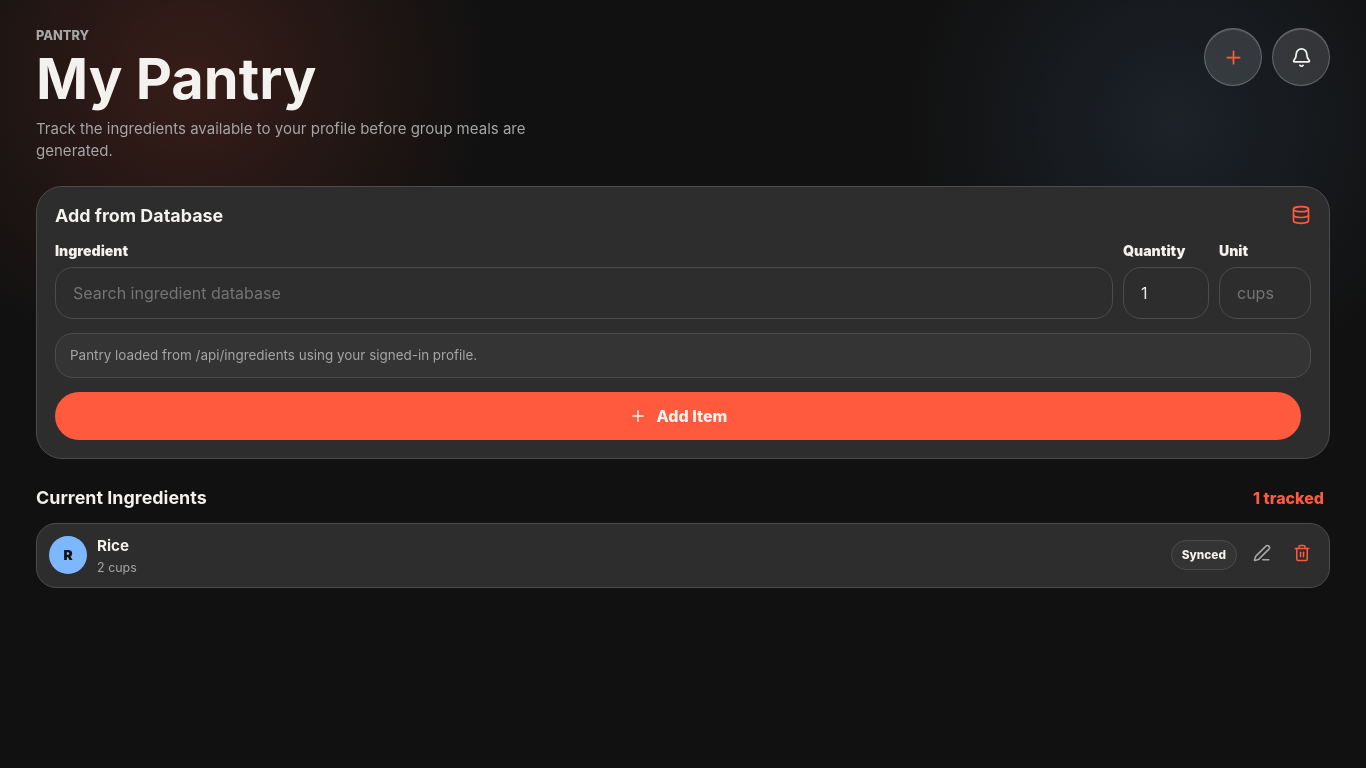
Test case: PantryPage controls › loads pantry items and adds a catalog ingredient
Expected: the heading "Rice" is shown, [97, 536, 129, 554]
Type "Tomato" into the field labelled "Ingredient" at {"x": 584, "y": 293}, box [55, 267, 1113, 319]
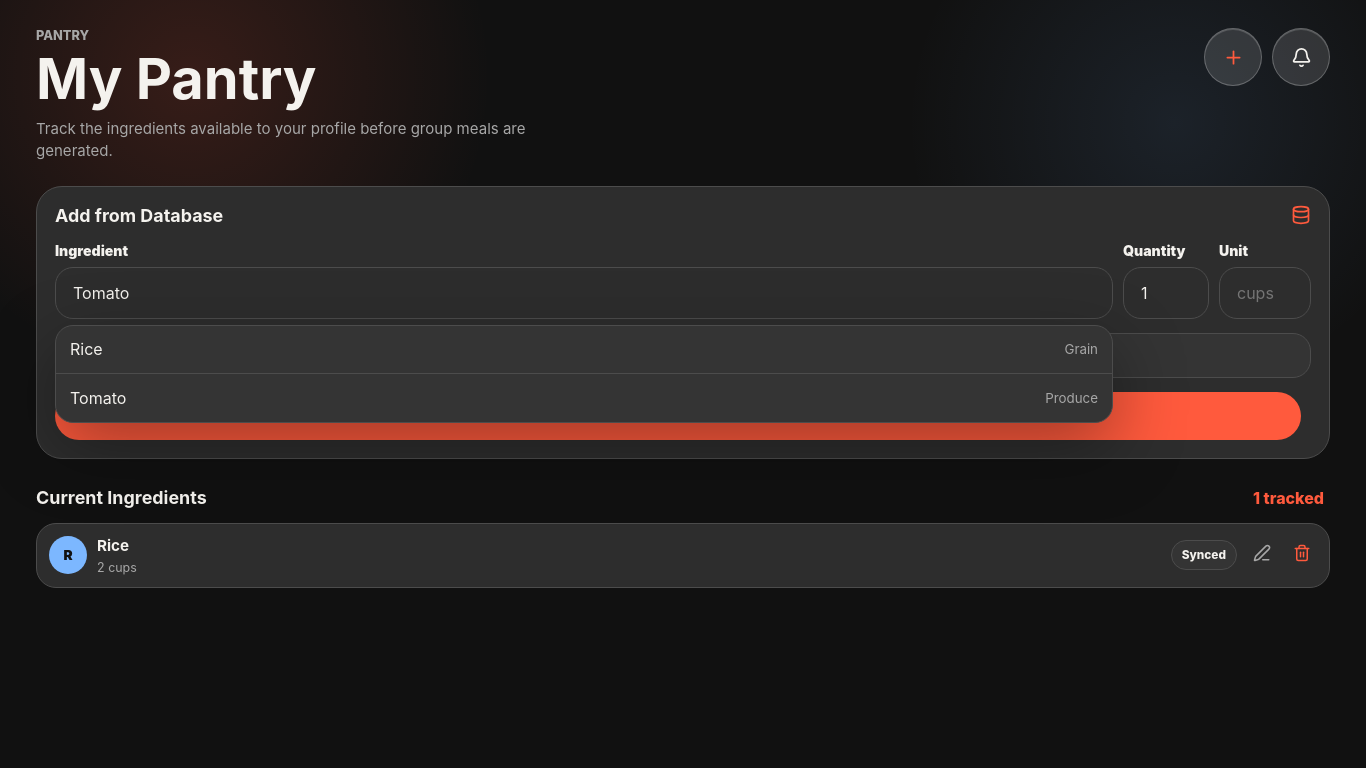
Click the button "Tomato Produce" at {"x": 98, "y": 398}, box [56, 374, 1112, 422]
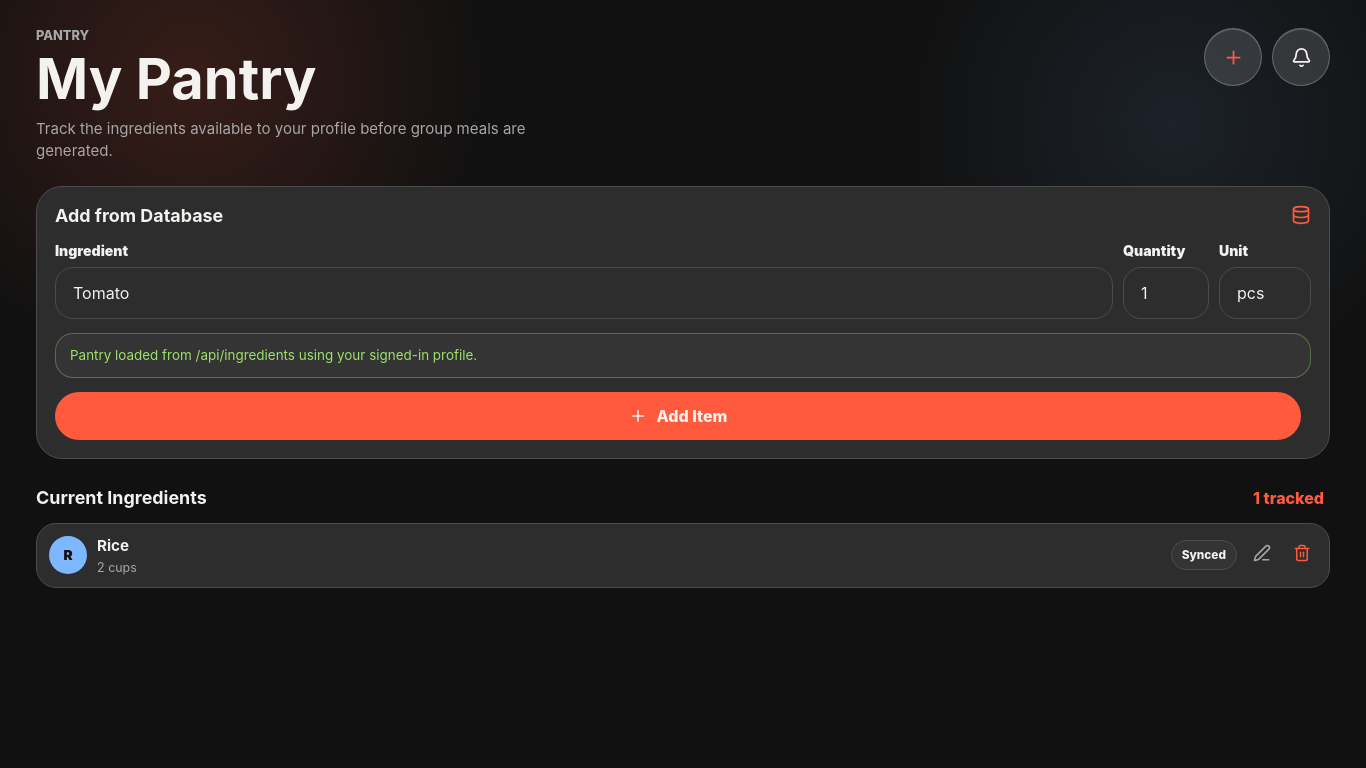
Replace the text in the number field labelled "Quantity" with "3" at {"x": 1166, "y": 293}, box [1123, 267, 1209, 319]
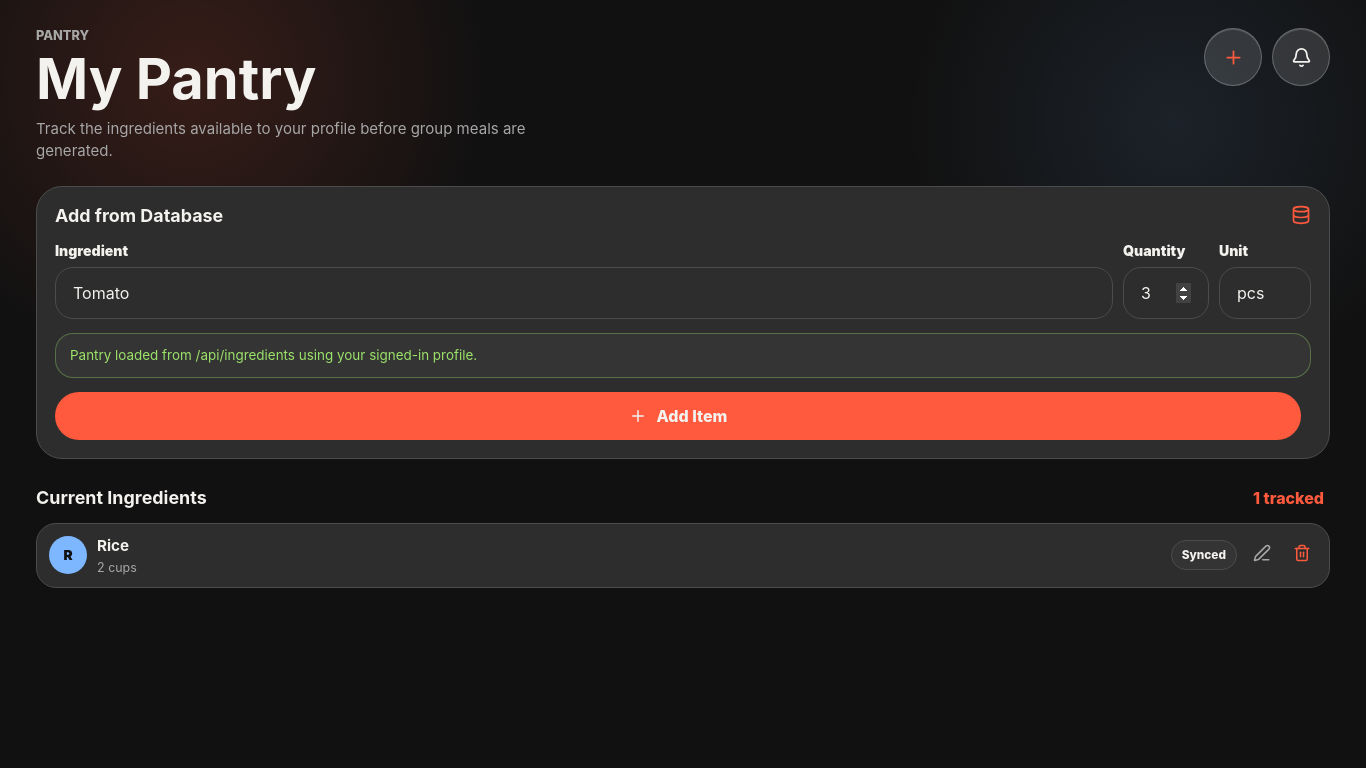
Click the button "Add Item" at {"x": 678, "y": 416}, box [55, 392, 1301, 440]
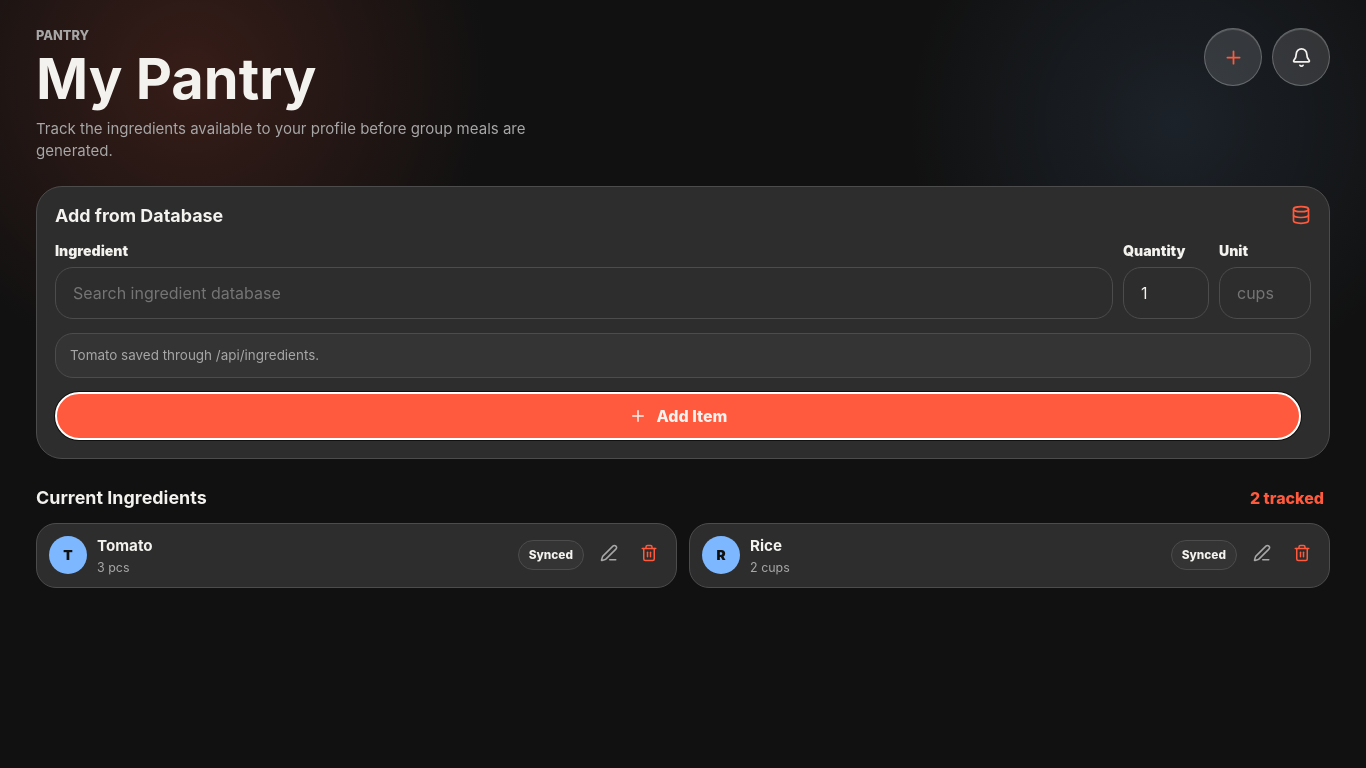
Expected: the heading "Tomato" is shown, [97, 536, 153, 554]
Expected: the text "3 pcs" is shown, [97, 560, 130, 574]
